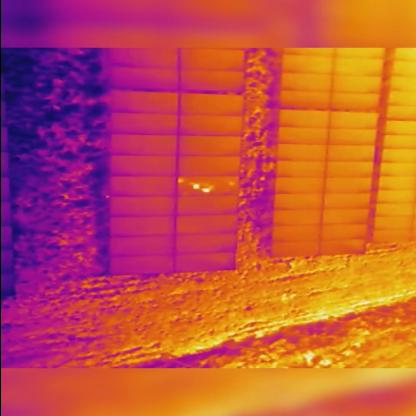panel: (108, 109, 182, 137), (106, 130, 180, 157), (107, 152, 181, 178), (108, 89, 181, 114), (105, 212, 177, 237), (177, 112, 246, 138), (106, 233, 177, 257), (108, 193, 179, 217), (108, 172, 179, 196), (178, 91, 248, 115), (176, 133, 244, 157), (174, 153, 243, 176), (175, 172, 241, 196), (107, 253, 177, 275), (173, 212, 238, 235), (173, 250, 238, 272), (173, 193, 240, 214), (173, 232, 238, 253)
